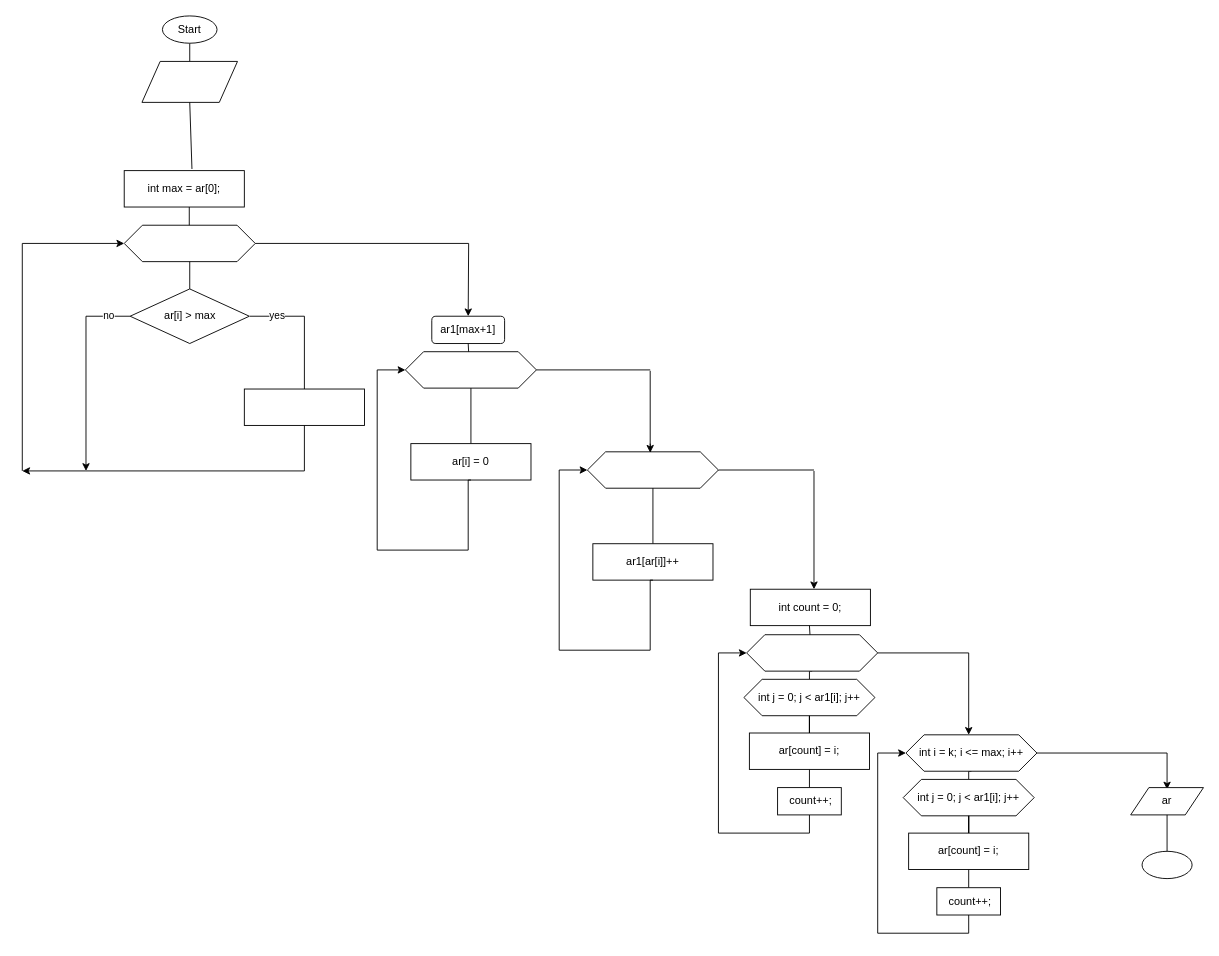
This 1219x956 diagram has some shape labels left out. Each missing label, with the centre of its shape:
"End" belongs at (x=1166, y=864).
"i = 0; i < m; i++;" belongs at (x=652, y=469).
"i = 0; i <= max; i++;" belongs at (x=470, y=369).
"i = 1; i < m; i++;" belongs at (x=189, y=243).
"int i = k - 1; i >= 0; i--" belongs at (x=812, y=652).
"m є N k є N ar[m]" belongs at (x=189, y=81).
"max = ar[i]" belongs at (x=303, y=406).
